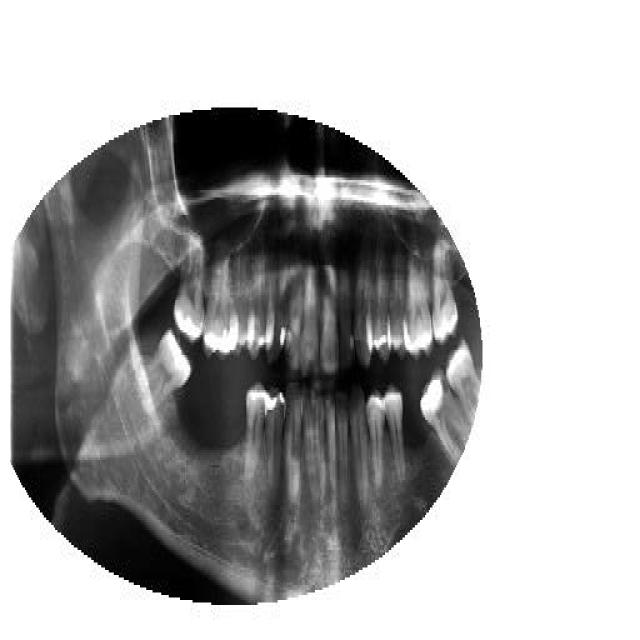Fillings: (204, 250, 238, 358), (173, 245, 205, 345), (265, 383, 286, 495)
